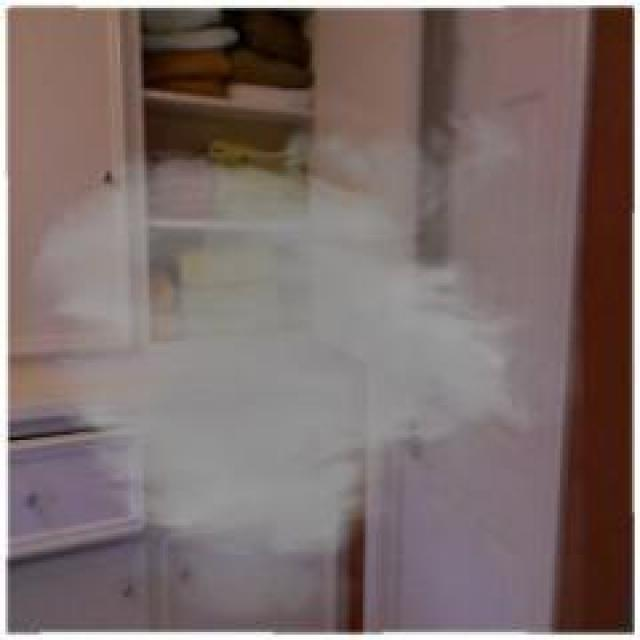Smoke: (25, 90, 583, 634)
